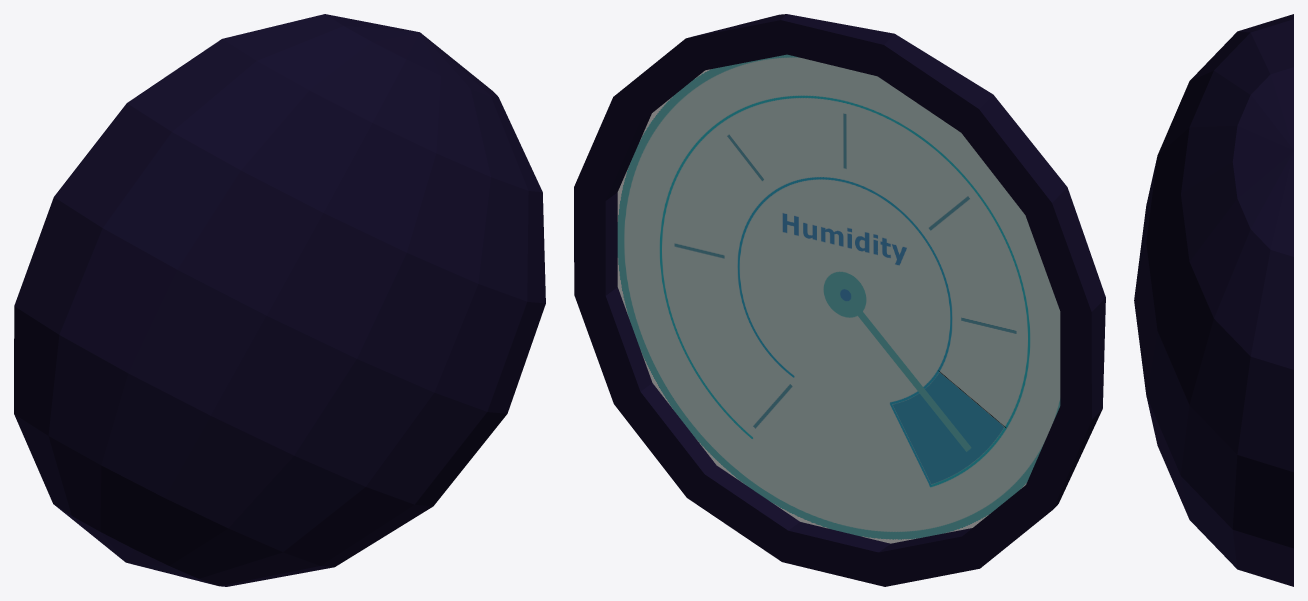
Rendered from humidity.glb.
The picture shows the model from 3 angles, left to right: view 1: azimuth 30°, elevation 25°; view 2: azimuth 150°, elevation 25°; view 3: azimuth 270°, elevation 25°; orthographic projection. The views are drawn at different scales.
Visible parts, largest first — view 1: Sphere; view 2: Sphere; view 3: Sphere.
Part boxes in pixels (x1=…): Sphere: x1=14, y1=14, x2=545, y2=586; Sphere: x1=574, y1=14, x2=1105, y2=586; Sphere: x1=1134, y1=14, x2=1293, y2=586.
Size of the model in its own units: 1.96 by 1.96 by 0.5515.
2 materials, 1 textured.
